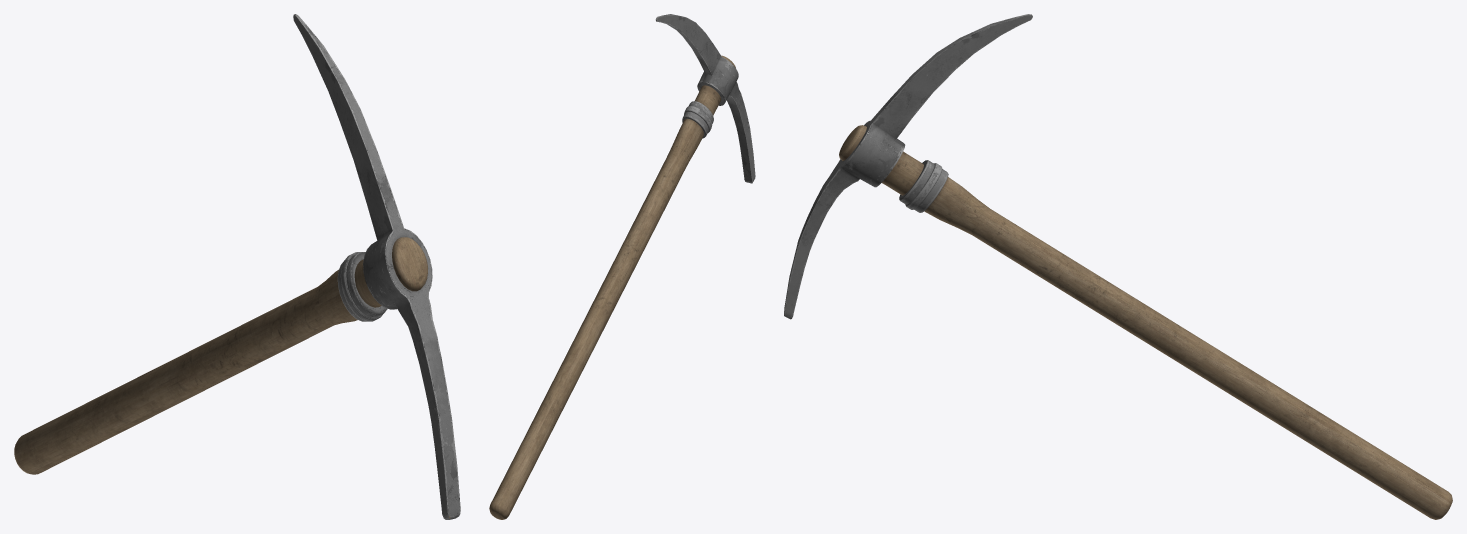
3 views of the same model, side by side, from view 1: azimuth 30°, elevation 25°; view 2: azimuth 150°, elevation 25°; view 3: azimuth 270°, elevation 25° (orthographic). The views are drawn at different scales.
Parts seen in each view (by area): view 1: Pickaxe; view 2: Pickaxe; view 3: Pickaxe.
Boxes of the visible parts, box(x1,y1,x2,y2) form: Pickaxe: box(14, 14, 460, 519); Pickaxe: box(489, 14, 755, 519); Pickaxe: box(784, 14, 1452, 519).
Bounding box in the file's own units: 0.00272 × 0.0399 × 0.0479.
1 material, 1 textured.
